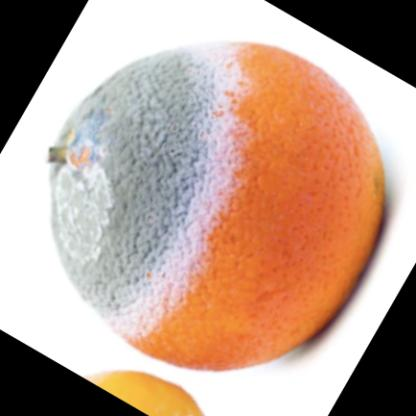rotten: (49, 43, 387, 370)
